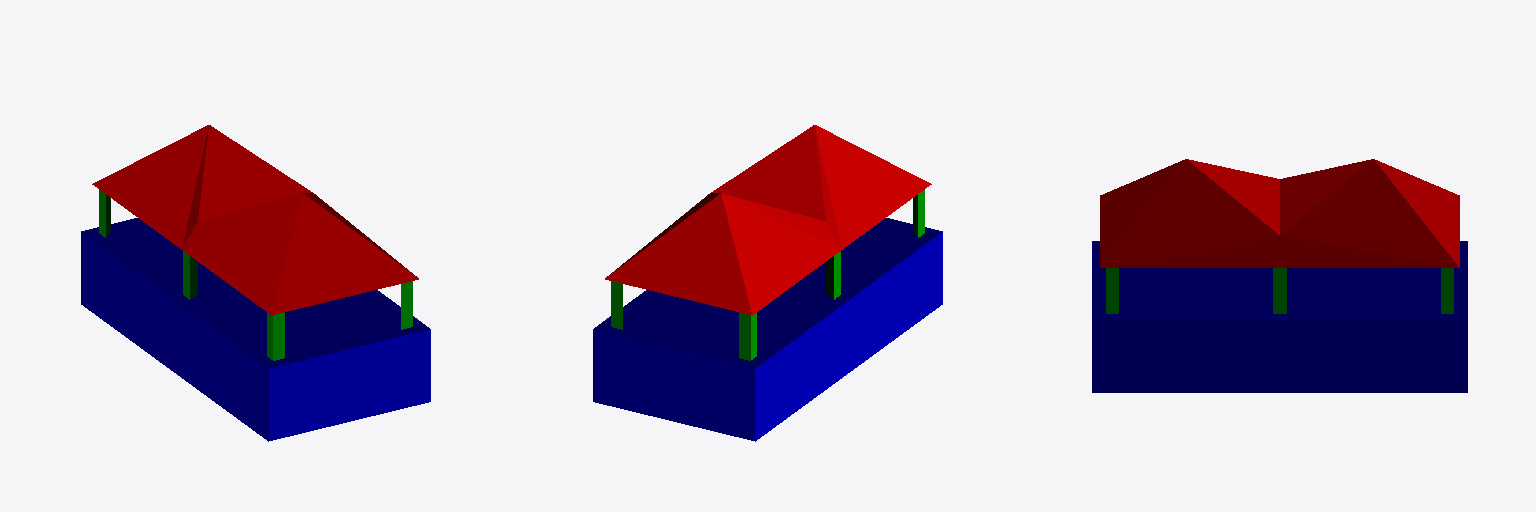
The model's file is fancy_stands.obj.
3 views of the same model, side by side, from view 1: azimuth 30°, elevation 25°; view 2: azimuth 150°, elevation 25°; view 3: azimuth 270°, elevation 25° (orthographic).
Visible parts, largest first — view 1: Cube.001; view 2: Cube.001; view 3: Cube.001.
Part boxes in pixels (x1,y1,x2,y2): Cube.001: (81, 125, 430, 441); Cube.001: (593, 125, 942, 441); Cube.001: (1092, 159, 1467, 392).
Size of the model in its own units: 70 by 80 by 140.